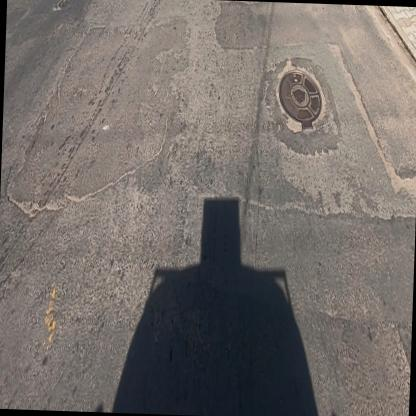manholes: (272, 52, 330, 140)
